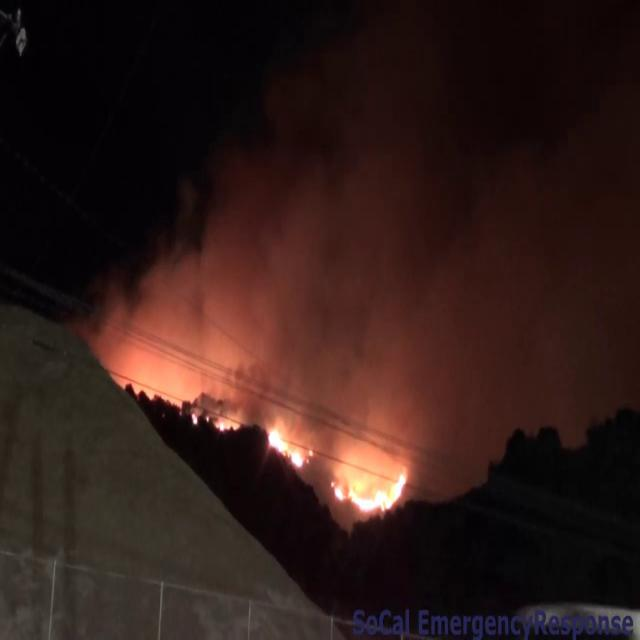Fire: (332, 453, 414, 522), (262, 418, 310, 474)
Smoke: (98, 45, 640, 407)
